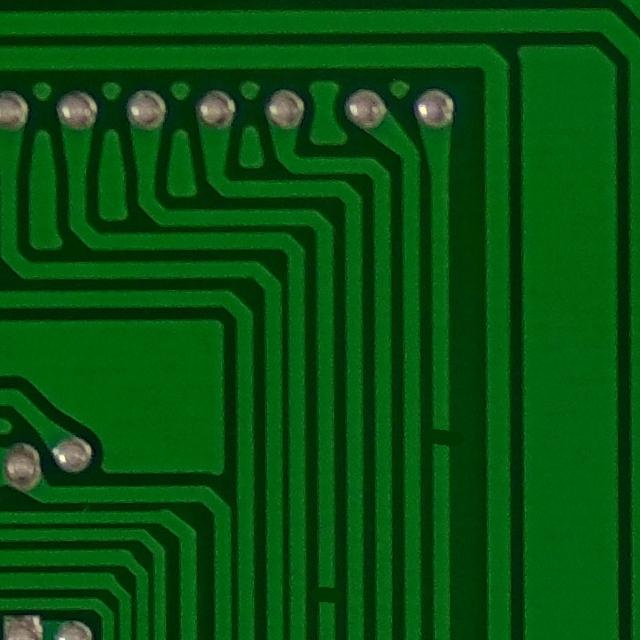open_circuit: (423, 419, 461, 458), (310, 579, 342, 613)
